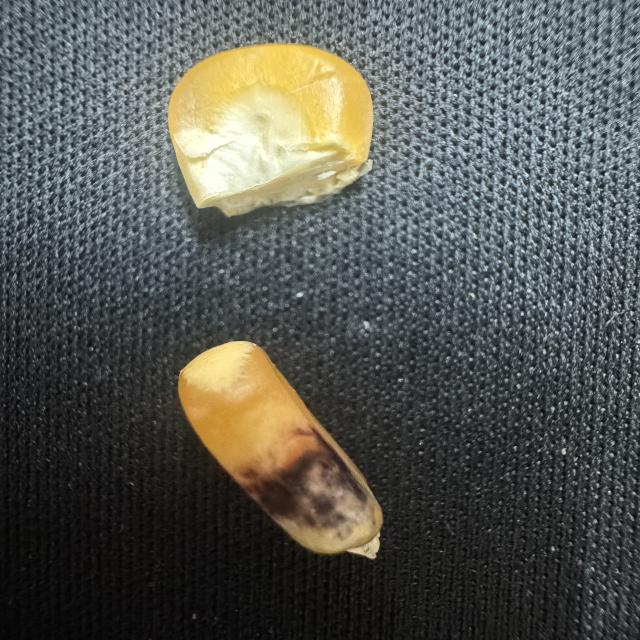Bad-Seed: (173, 338, 391, 566), (159, 38, 381, 220)
